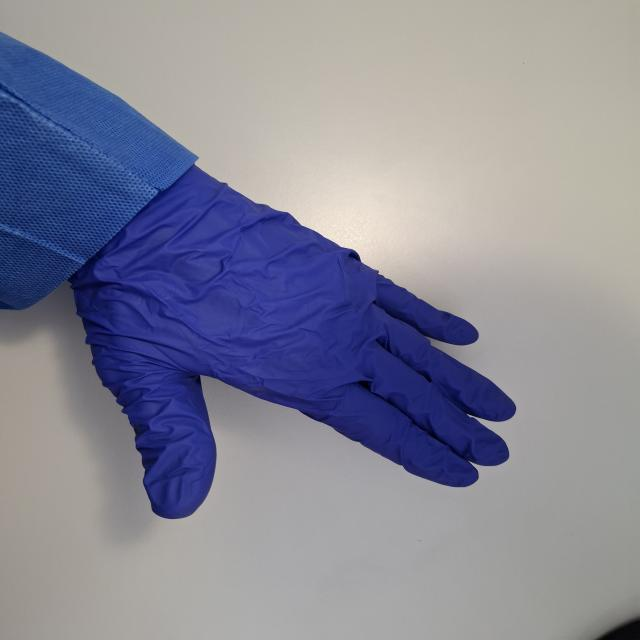glove_on: (53, 157, 521, 522)
